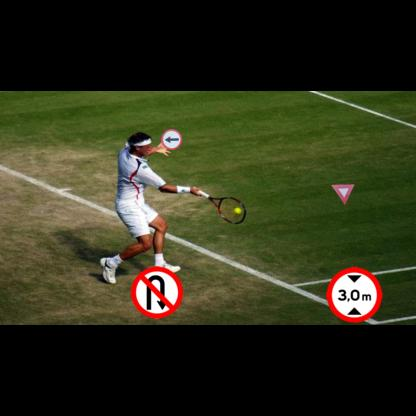R-15: (326, 267, 382, 322)
R-24a: (161, 129, 182, 150)
